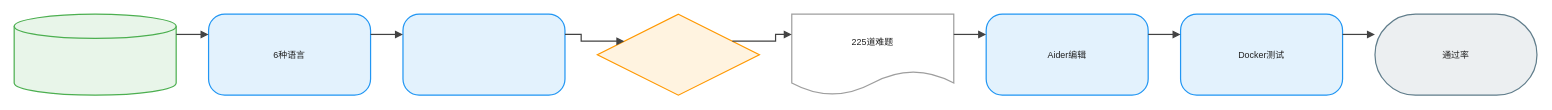
Some shapes in this 1552 by 110 pixel diagram are drawn without their labels. The shapes that lost their labels are listed below. From the top down, each one's centre as x and y in pixels, then its label:
[94,54]: 697道练习
[483,54]: 7模型预试
[678,54]: 至多3个解出
